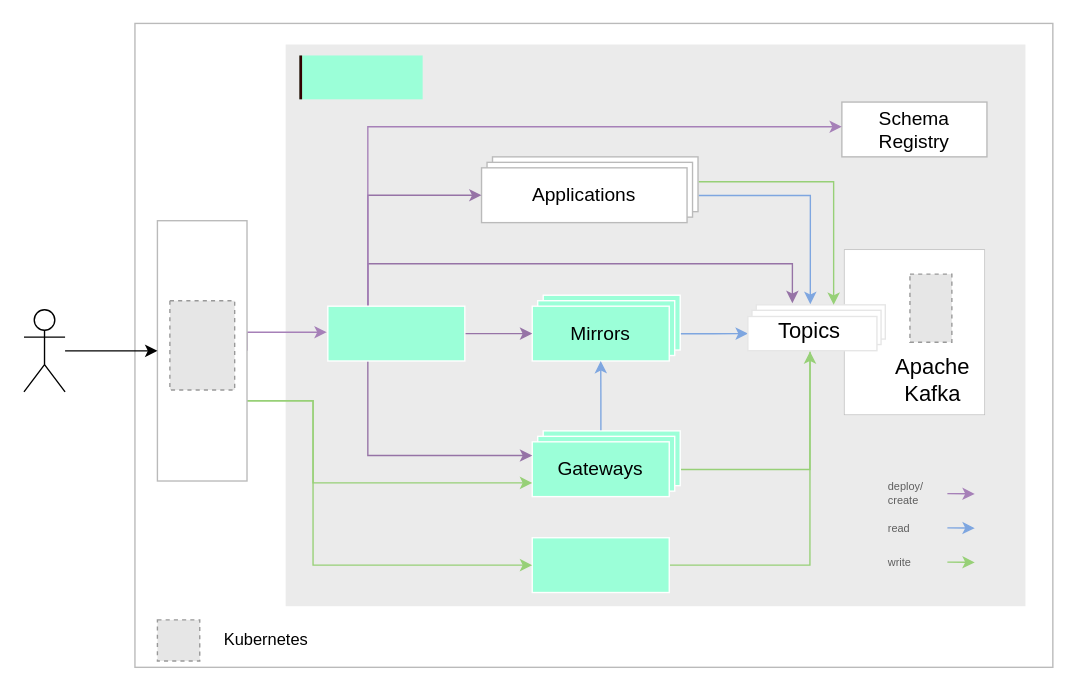
Some shapes in this 1077 by 692 pixel diagram are drawn without their labels. Grey dashed boxes stand in for pictures. The centre of each missing label's shape, as x and y in pixels:
"Ingest" belongs at (x=600, y=564).
"Manager" belongs at (x=395, y=333).
"Quick" belongs at (x=360, y=77).
